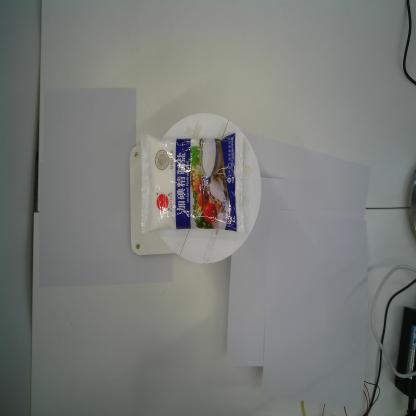Seasoner: (139, 128, 246, 238)
